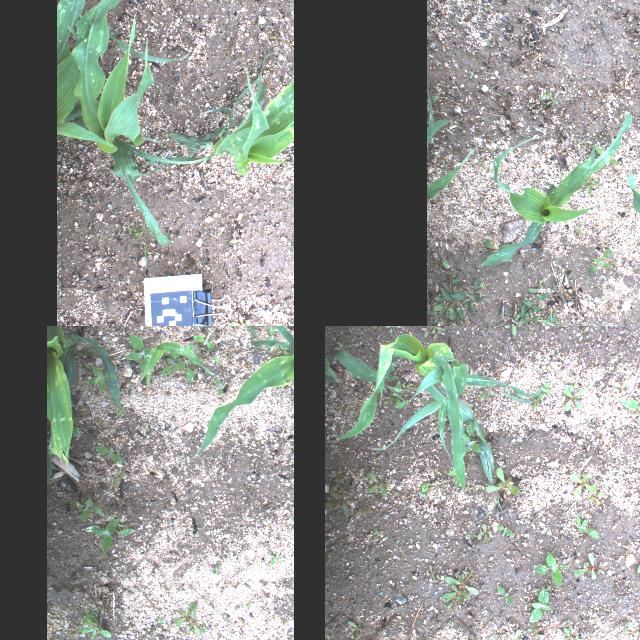crop: (70, 0, 220, 246), (334, 332, 540, 488), (478, 113, 632, 267), (167, 0, 294, 177), (57, 0, 191, 146), (183, 326, 294, 502), (46, 326, 119, 465), (139, 343, 215, 399), (426, 146, 476, 198), (327, 350, 388, 386), (427, 88, 459, 148), (47, 452, 69, 488)
weed: (426, 258, 492, 324), (512, 279, 563, 326), (83, 518, 135, 558), (114, 215, 150, 268), (122, 334, 156, 374), (440, 570, 480, 604), (532, 552, 570, 586), (485, 466, 521, 496), (174, 342, 198, 383), (84, 364, 116, 392), (572, 552, 604, 580), (531, 584, 551, 624), (569, 472, 597, 498), (76, 498, 106, 522), (172, 602, 198, 628), (588, 248, 612, 274), (366, 471, 388, 497), (379, 360, 399, 388), (324, 491, 350, 512), (161, 346, 179, 376), (622, 392, 640, 422), (563, 388, 585, 412), (96, 444, 122, 464), (80, 622, 112, 638), (422, 480, 448, 498), (578, 516, 598, 538), (595, 146, 619, 164), (193, 332, 214, 351), (555, 627, 584, 640), (82, 606, 100, 626), (238, 326, 270, 337), (496, 586, 514, 604), (476, 523, 492, 543), (623, 620, 639, 640), (349, 621, 365, 640), (481, 377, 492, 403), (190, 608, 200, 636), (109, 514, 129, 528), (392, 380, 402, 408), (582, 178, 596, 196), (496, 524, 514, 538), (268, 551, 284, 565), (334, 342, 350, 356), (588, 490, 604, 504), (216, 378, 227, 398), (70, 417, 80, 439), (349, 508, 371, 518), (536, 366, 548, 384), (327, 472, 348, 482), (502, 629, 521, 640), (232, 316, 252, 326), (112, 472, 126, 486), (491, 628, 507, 640), (545, 92, 559, 105), (504, 326, 524, 335), (533, 396, 543, 414), (268, 326, 275, 351), (576, 328, 588, 342), (422, 326, 434, 340), (433, 328, 445, 342), (185, 624, 198, 636), (432, 574, 443, 588), (278, 344, 290, 356), (387, 394, 401, 404), (540, 382, 552, 393), (540, 627, 550, 640), (526, 623, 542, 631), (619, 380, 627, 396), (372, 528, 382, 540), (200, 620, 208, 634), (385, 326, 395, 337), (606, 394, 624, 400), (484, 238, 494, 248), (401, 384, 411, 394), (540, 91, 546, 107), (428, 564, 434, 580), (116, 408, 125, 418), (548, 354, 562, 360), (428, 96, 438, 104), (336, 404, 346, 412), (430, 326, 441, 333), (212, 356, 218, 366), (366, 326, 386, 329), (158, 616, 165, 624), (495, 326, 505, 331), (600, 326, 610, 330), (576, 228, 582, 234), (485, 326, 493, 330), (637, 565, 640, 575)
